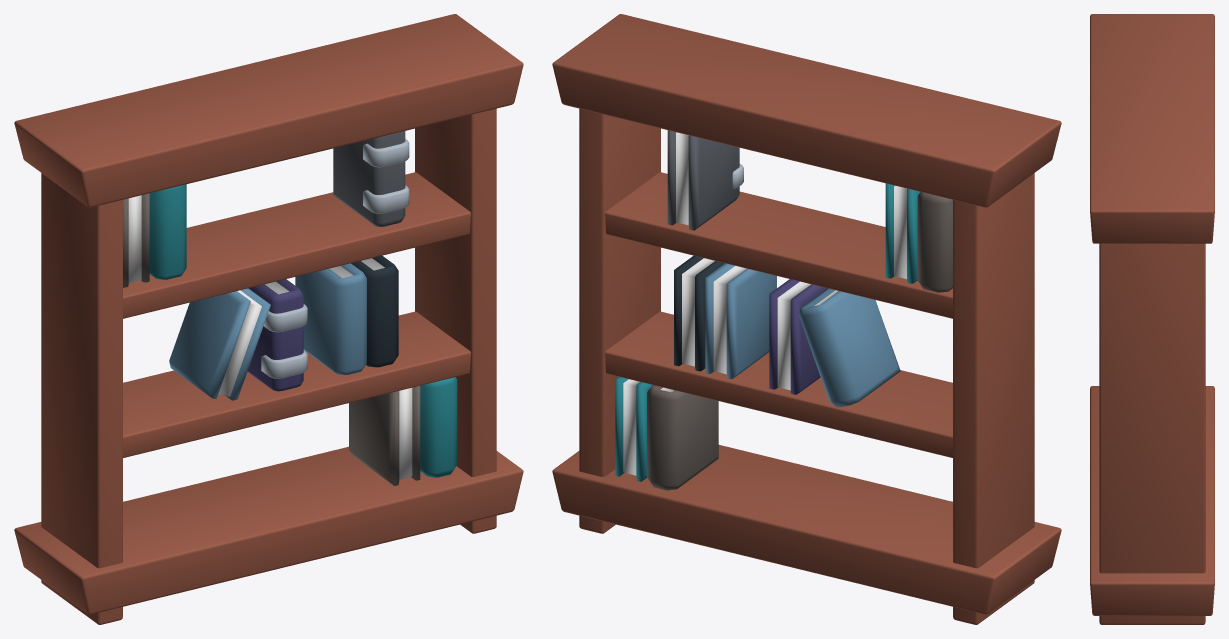
The model's file is kaykit-bookcasewidefilled.glb.
3 views of the same model, side by side, from view 1: azimuth 30°, elevation 25°; view 2: azimuth 150°, elevation 25°; view 3: azimuth 270°, elevation 25° (orthographic). The views are drawn at different scales.
Visible parts, largest first — view 1: bookcaseWideFilled; view 2: bookcaseWideFilled; view 3: bookcaseWideFilled.
Boxes of the visible parts, box(x1,y1,x2,y2) form: bookcaseWideFilled: box(14, 14, 523, 624); bookcaseWideFilled: box(552, 14, 1061, 624); bookcaseWideFilled: box(1090, 14, 1214, 624).
Size of the model in its own units: 1.99 by 2 by 0.5334.
Materials: 4 (4 with a texture image).
